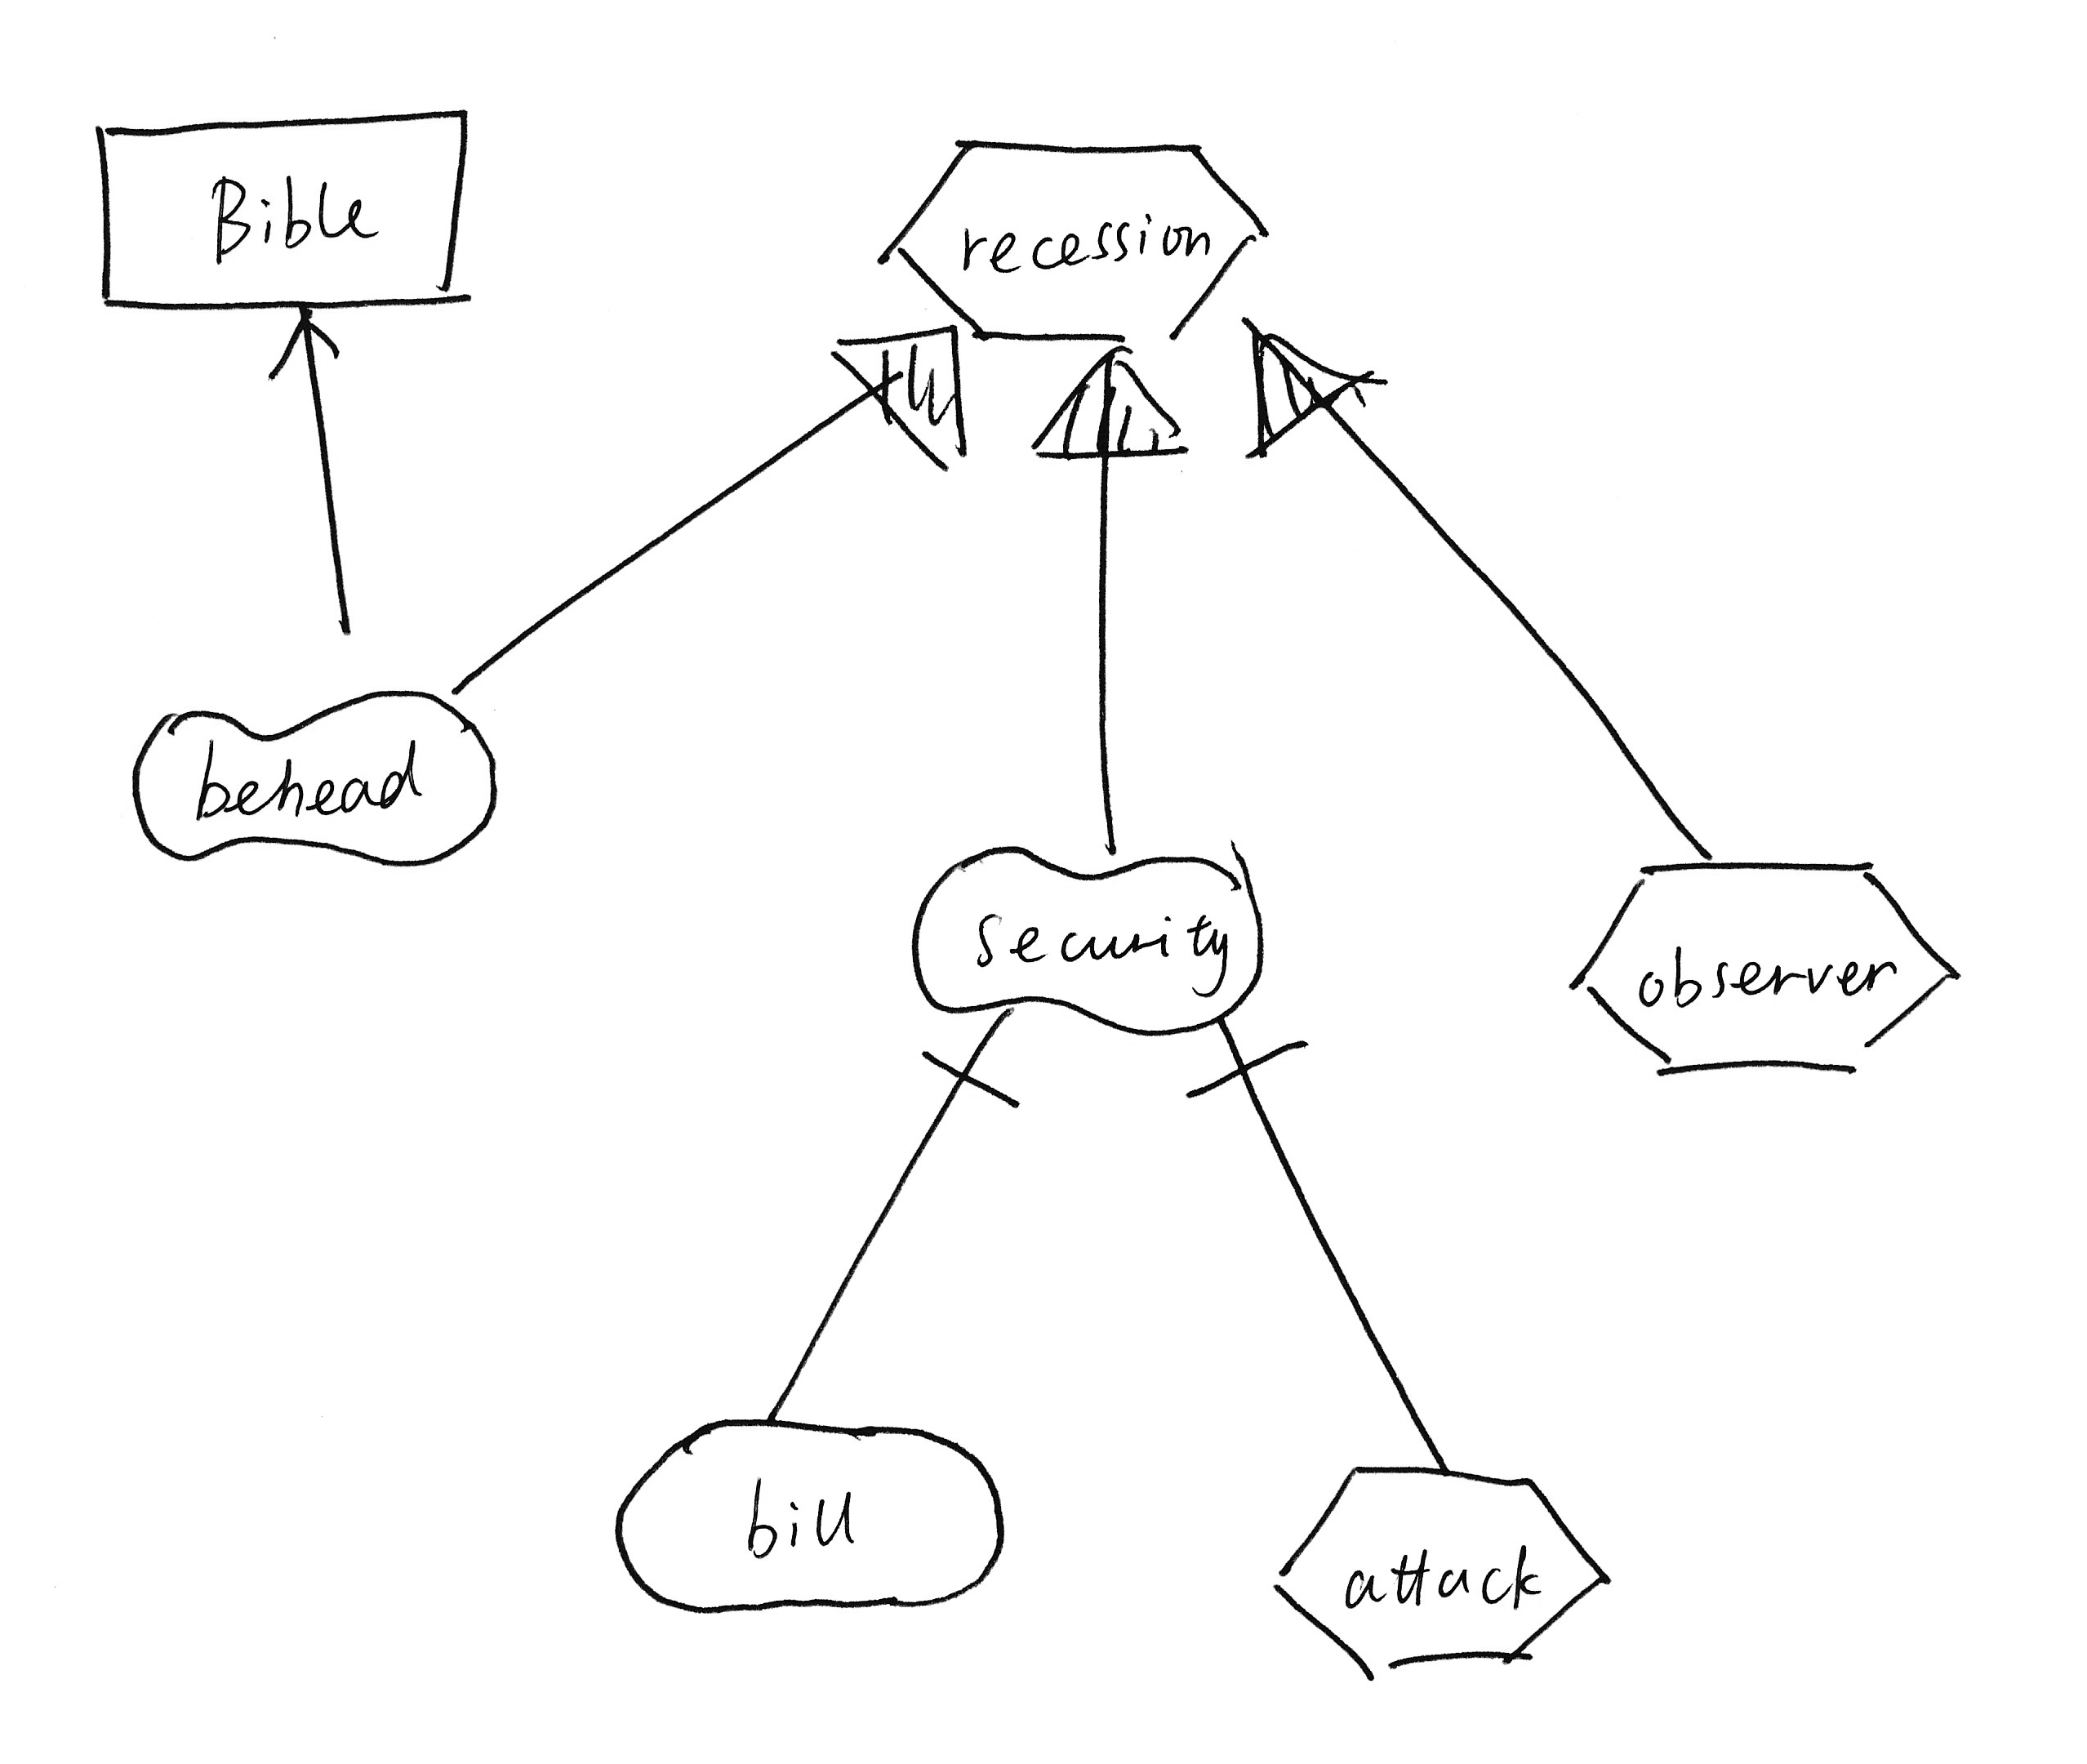and: (1172, 1025, 1326, 1122), (903, 1024, 1030, 1129)
arrow: (257, 294, 353, 394)
goal: (604, 1400, 1022, 1629)
or: (1223, 303, 1406, 476), (824, 318, 983, 495), (1023, 336, 1207, 483)
quality: (892, 826, 1275, 1053), (114, 679, 516, 884)
resource: (82, 93, 488, 329)
task: (1550, 843, 1973, 1099), (866, 115, 1282, 359), (1249, 1449, 1627, 1699)
